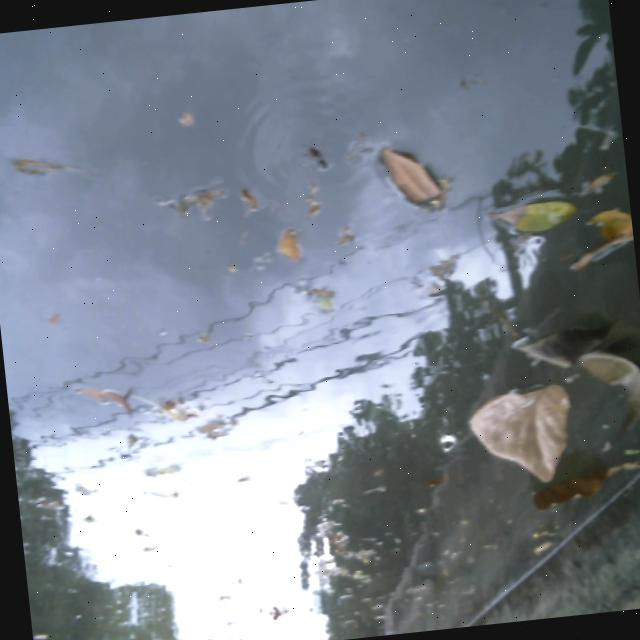Big-leaf: (514, 315, 640, 451), (460, 363, 577, 490), (534, 457, 640, 521), (568, 190, 636, 275)
Small-leaf: (483, 180, 579, 243), (377, 121, 437, 221), (64, 368, 146, 436), (7, 139, 89, 194), (529, 523, 568, 566), (272, 224, 318, 259)
